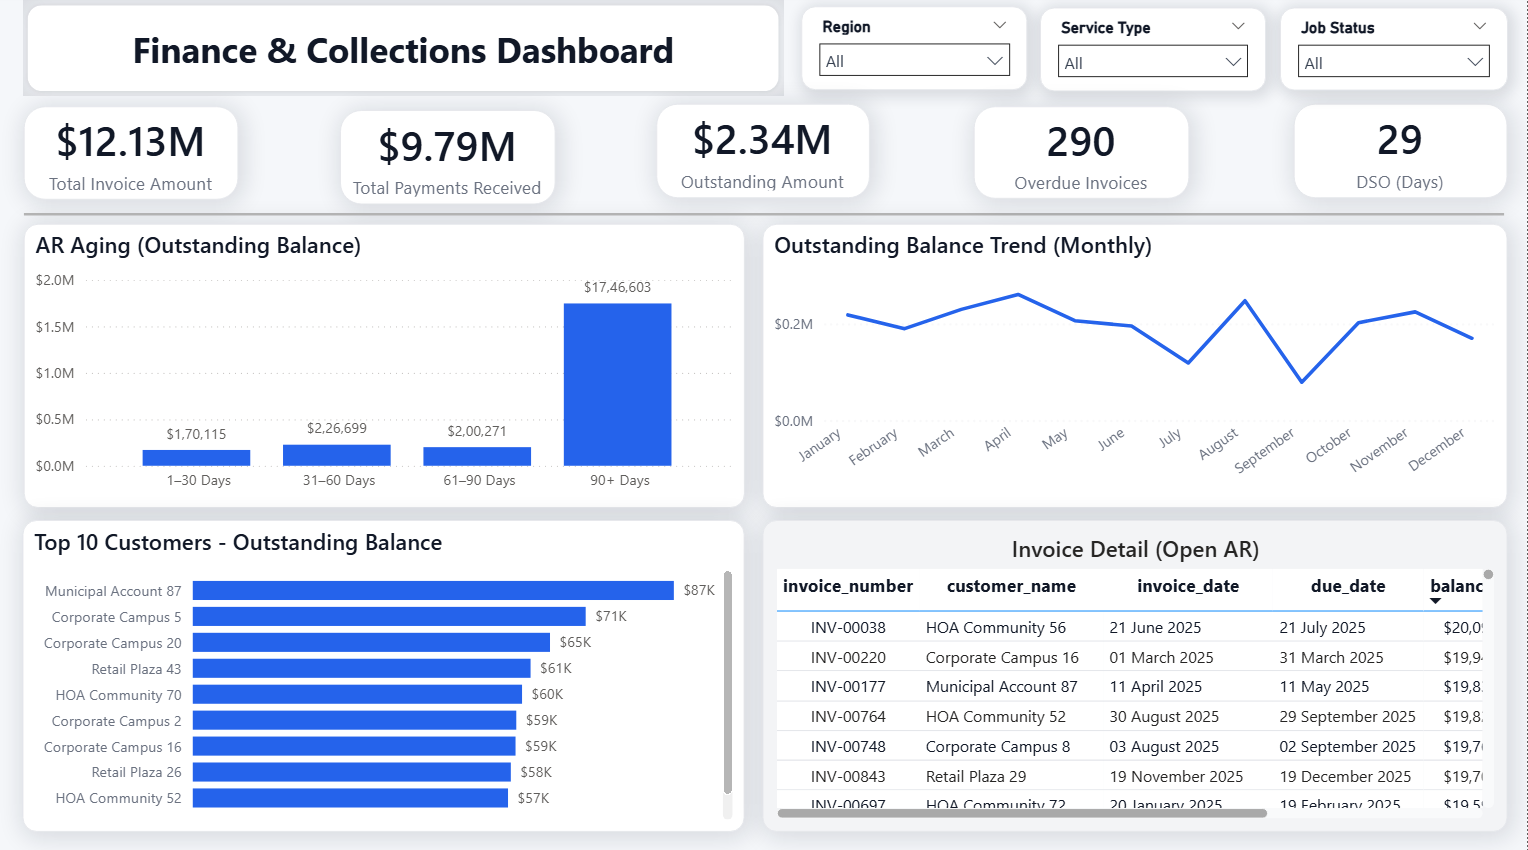

The dashboard page shown, as its layout file describes it:
{"tool":"powerbi","page":{"name":"Finance & Collections","canvas":[1280,720],"ordinal":2},"visuals":[{"type":"slicer","fields":{"Values":["dim_region.region_name"]},"box":[672,9.4,189.8,70.2],"z":0},{"type":"card","title":"Total Invoiced Amount","fields":{"Values":["_Meaqsures.Total Payments Received"]},"box":[285.4,96.3,180.6,79.1],"z":1000},{"type":"card","title":"Total Invoiced Amount","fields":{"Values":["_Meaqsures.Outstanding Amount"]},"box":[550.2,91.1,178.8,79.1],"z":2000},{"type":"card","title":"Total Invoiced Amount","fields":{"Values":["_Meaqsures.Total Invoice Amount"]},"box":[19.8,93,180,78],"z":3000},{"type":"card","title":"Total Invoiced Amount","fields":{"Values":["_Meaqsures.DSO (Days)"]},"box":[1085,91.1,178.8,79.1],"z":4000},{"type":"clusteredColumnChart","title":"AR Aging (Outstanding Balance)","fields":{"Category":["invoices.Aging Bucket"],"Y":["_Meaqsures.Overdue Outstanding"]},"box":[19.8,191.9,604.7,238.4],"z":5000},{"type":"lineChart","title":"Outstanding Balance Trend (Monthly)","fields":{"Y":["_Meaqsures.Overdue Outstanding"],"Category":["invoices.invoice_date.Variation.Date Hierarchy.Month"]},"box":[639.5,191.9,624.4,238.4],"z":6000},{"type":"slicer","fields":{"Values":["dim_service_type.service_name"]},"box":[871.9,10.3,189.5,70.1],"z":7000},{"type":"slicer","fields":{"Values":["dim_invoice_status.status_code"]},"box":[1073.1,10.4,190.9,69.6],"z":8000},{"type":"shape","box":[18.9,4.2,638.4,80.7],"z":9000},{"type":"shape","box":[19.8,147.7,1241.9,72.1],"z":10000},{"type":"barChart","title":"Top 10 Customers - Outstanding Balance","fields":{"Category":["customers.customer_name"],"Y":["_Meaqsures.Overdue Outstanding"]},"box":[18.6,440.7,605.8,261.6],"z":11000},{"type":"tableEx","title":"Invoice Detail (Open AR)","fields":{"Values":["invoices.invoice_number","customers.customer_name","invoices.invoice_date","invoices.due_date","invoices.balance_due","invoices.Aging Bucket","invoices.Days Past Due"]},"box":[639.5,440.7,624.4,261.6],"z":12000},{"type":"card","title":"Total Invoiced Amount","fields":{"Values":["_Meaqsures.Overdue Invoices"]},"box":[816.8,92.9,180.6,77.4],"z":13000}]}

Visuals, with their boxes in screenshot pixels (x1, y1, x2, y2), scaled from the page's 1280x720 canvas onto the 1528x850 screenshot:
slicer - dim_region.region_name: (left=802, top=11, right=1029, bottom=94)
"Total Invoiced Amount" card: (left=341, top=114, right=556, bottom=207)
"Total Invoiced Amount" card: (left=657, top=108, right=870, bottom=201)
"Total Invoiced Amount" card: (left=24, top=110, right=239, bottom=202)
"Total Invoiced Amount" card: (left=1295, top=108, right=1509, bottom=201)
"AR Aging (Outstanding Balance)" clusteredColumnChart: (left=24, top=227, right=745, bottom=508)
"Outstanding Balance Trend (Monthly)" lineChart: (left=763, top=227, right=1509, bottom=508)
slicer - dim_service_type.service_name: (left=1041, top=12, right=1267, bottom=95)
slicer - dim_invoice_status.status_code: (left=1281, top=12, right=1509, bottom=94)
shape: (left=23, top=5, right=785, bottom=100)
shape: (left=24, top=174, right=1506, bottom=259)
"Top 10 Customers - Outstanding Balance" barChart: (left=22, top=520, right=745, bottom=829)
"Invoice Detail (Open AR)" tableEx: (left=763, top=520, right=1509, bottom=829)
"Total Invoiced Amount" card: (left=975, top=110, right=1191, bottom=201)
